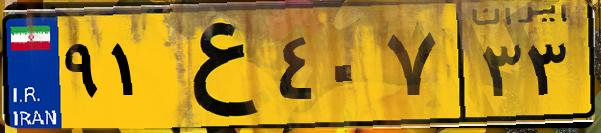0: (330, 28, 385, 110)
1: (110, 28, 158, 98)
3: (475, 38, 525, 113), (525, 38, 570, 115)
4: (270, 28, 330, 110)
7: (385, 28, 445, 110)
9: (57, 26, 110, 100)
ع: (158, 12, 270, 120)
